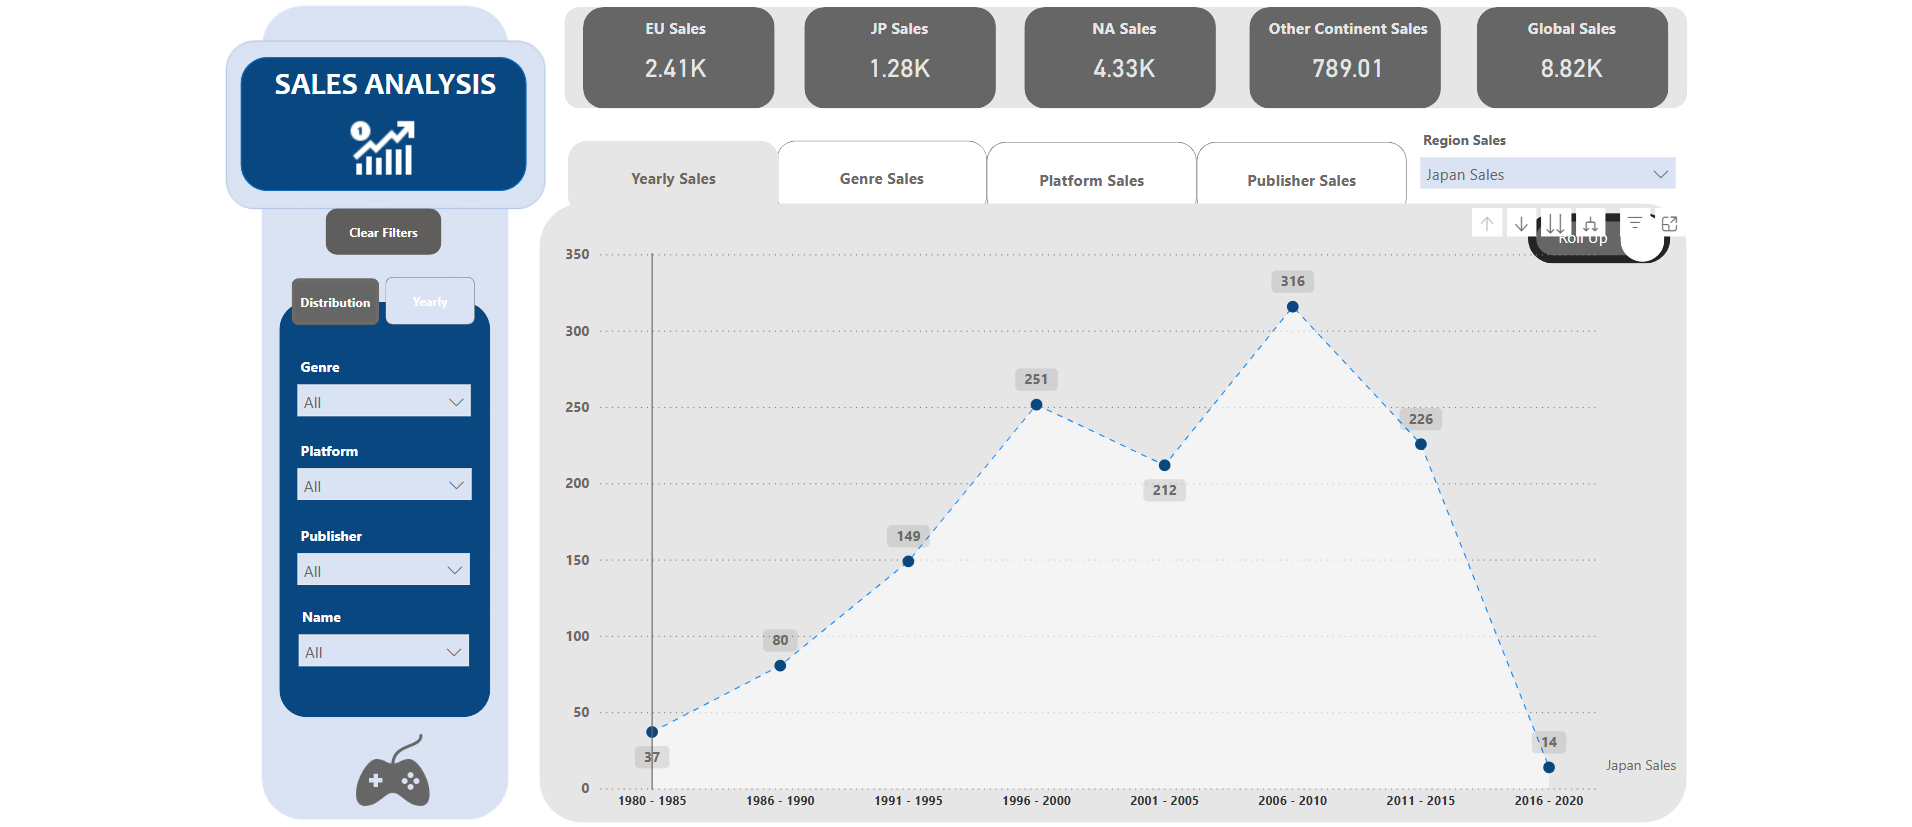

Layout of this report page (visuals, bound fields, positions):
{"tool":"powerbi","page":{"name":"Sales Analysis","canvas":[1280,720],"ordinal":0},"visuals":[{"type":"shape","box":[301.6,8.3,966,87.3],"z":0,"group":"g6"},{"type":"shape","box":[23.6,51.4,246,115.4],"z":0,"group":"g5"},{"type":"group","id":"g1","title":"White Button Navigator","box":[305.4,123.8,721.4,65.1],"z":0},{"type":"actionButton","title":"Button Yearly Sales","box":[305.8,124.5,181.6,64],"z":0,"group":"g2"},{"type":"actionButton","title":"Button Publisher Sales","box":[846.3,124.5,180.6,64.4],"z":0,"group":"g1"},{"type":"shape","box":[280,177,987.1,532.9],"z":0,"group":"g3"},{"type":"actionButton","title":"Activate Distribution Filter","box":[67.9,241.3,75.1,40.3],"z":0,"group":"g9"},{"type":"slicer","title":"Genre","fields":{"Values":["vgsales.Genre"]},"box":[61.7,305.7,169.6,73.6],"z":0,"group":"g8"},{"type":"shape","box":[317.5,8.5,165,87.3],"z":1000,"group":"g6"},{"type":"textbox","box":[41.7,52.8,212.7,43.1],"z":1000,"group":"g5"},{"type":"group","id":"g2","title":"Ash Button Navigator","box":[305.8,123,722.5,66.3],"z":1000},{"type":"actionButton","title":"Button Genre Sales","box":[485.1,123.8,180.7,63.9],"z":1000,"group":"g1"},{"type":"actionButton","title":"Deactivate Yearly Filter","box":[148.8,241.1,76.9,41],"z":1000,"group":"g9"},{"type":"shape","box":[56.6,261.9,181.6,357.2],"z":1000,"group":"g3"},{"type":"slicer","title":"Publisher","fields":{"Values":["vgsales.Publisher"]},"box":[62.4,450.7,168.3,71.4],"z":1000,"group":"g8"},{"type":"shape","box":[697,8.5,165,87.3],"z":2000,"group":"g6"},{"type":"image","box":[107,94.5,75.1,70.9],"z":2000,"group":"g5"},{"type":"actionButton","title":"Button Platform Sales","box":[665.7,124.5,180.6,64.4],"z":2000,"group":"g1"},{"type":"slicer","title":"Name","fields":{"Values":["vgsales.Name"]},"box":[63.2,520.5,166.7,71.4],"z":2000,"group":"g8"},{"type":"shape","box":[1086.7,8.5,165,87.3],"z":3000,"group":"g6"},{"type":"group","id":"g3","title":"Shapes","box":[56.6,177,1210.6,532.9],"z":3000},{"type":"shape","title":"Roll Up Shape","box":[1131.3,186.1,122.4,43.1],"z":3000,"group":"g4"},{"type":"areaChart","title":"GRAPH Yearly Sales","fields":{"Y":["Measures Table.JP Sales"],"Category":["vgsales.Year (groups) Hierarchy.Year (groups)","vgsales.Year (groups) Hierarchy.Year"]},"box":[297.4,207.3,969.1,501.4],"z":3000,"group":"g7"},{"type":"slicer","title":"Platform","fields":{"Values":["vgsales.Platform"]},"box":[61.6,377.7,169.8,74.6],"z":3000,"group":"g8"},{"type":"image","box":[118.3,624.4,72.8,78.5],"z":3000,"group":"g5"},{"type":"shape","box":[507.9,8.5,165,87.3],"z":4000,"group":"g6"},{"type":"group","id":"g4","title":"Yearly Sales Drill Down VS Roll Up","box":[1131,186.1,123,42.7],"z":4000},{"type":"actionButton","title":"Toggle Roll Up","box":[1211,187.5,37.7,40.6],"z":4000,"group":"g4"},{"type":"shape","box":[891.2,8.5,165,87.3],"z":5000,"group":"g6"},{"type":"textbox","title":"Roll Up Text box","box":[1139.9,193,77.6,31],"z":5000,"group":"g4"},{"type":"card","title":"EU Sales","fields":{"Values":["Sum(vgsales.EU_Sales)"]},"box":[312.4,17.2,170.1,69.5],"z":6000,"group":"g6"},{"type":"group","id":"g5","title":"Logo","box":[23.6,51.4,246,651.5],"z":6000},{"type":"group","id":"g6","title":"Sales Cards","box":[301.6,8.3,966,87.6],"z":7000},{"type":"card","title":"JP Sales","fields":{"Values":["Sum(vgsales.JP_Sales)"]},"box":[505.2,17.2,170.1,69.5],"z":8000,"group":"g6"},{"type":"group","id":"g7","title":"Sales","box":[288.7,202.4,977.9,518],"z":8000},{"type":"card","title":"NA Sales","fields":{"Values":["Sum(vgsales.NA_Sales)"]},"box":[698,17.2,170.1,69.5],"z":9000,"group":"g6"},{"type":"actionButton","title":"Clear Filters","box":[96.7,181.6,99.7,40.2],"z":9000},{"type":"card","title":"Other Continent Sales","fields":{"Values":["Sum(vgsales.Other_Sales)"]},"box":[890.8,17.2,170.1,69.5],"z":10000,"group":"g6"},{"type":"group","id":"g8","title":"Slicers","box":[56.6,305.7,180.1,286.2],"z":10000},{"type":"card","title":"Global Sales","fields":{"Values":["Sum(vgsales.Global_Sales)"]},"box":[1083.6,17.2,170.1,69.5],"z":11000,"group":"g6"},{"type":"group","id":"g9","title":"Activate - Deactivate Slicers","box":[67.9,239.6,157.8,42.5],"z":11000},{"type":"slicer","fields":{"Values":["Numeric KPI.Numeric KPI"]},"box":[1028,110,240,64],"z":12000}]}

Visuals, with their boxes on the page's 1280x720 design canvas (x1, y1, x2, y2). These are canvas units, not pixel positions in the 1912x827 screenshot, which may show the page scaled, cropped or inside an application window:
shape: crop(302, 8, 1268, 96)
shape: crop(24, 51, 270, 167)
"White Button Navigator" group: crop(305, 124, 1027, 189)
"Button Yearly Sales" actionButton: crop(306, 124, 487, 188)
"Button Publisher Sales" actionButton: crop(846, 124, 1027, 189)
shape: crop(280, 177, 1267, 710)
"Activate Distribution Filter" actionButton: crop(68, 241, 143, 282)
"Genre" slicer: crop(62, 306, 231, 379)
shape: crop(318, 8, 482, 96)
textbox: crop(42, 53, 254, 96)
"Ash Button Navigator" group: crop(306, 123, 1028, 189)
"Button Genre Sales" actionButton: crop(485, 124, 666, 188)
"Deactivate Yearly Filter" actionButton: crop(149, 241, 226, 282)
shape: crop(57, 262, 238, 619)
"Publisher" slicer: crop(62, 451, 231, 522)
shape: crop(697, 8, 862, 96)
image: crop(107, 94, 182, 165)
"Button Platform Sales" actionButton: crop(666, 124, 846, 189)
"Name" slicer: crop(63, 520, 230, 592)
shape: crop(1087, 8, 1252, 96)
"Shapes" group: crop(57, 177, 1267, 710)
"Roll Up Shape" shape: crop(1131, 186, 1254, 229)
"GRAPH Yearly Sales" areaChart: crop(297, 207, 1266, 709)
"Platform" slicer: crop(62, 378, 231, 452)
image: crop(118, 624, 191, 703)
shape: crop(508, 8, 673, 96)
"Yearly Sales Drill Down VS Roll Up" group: crop(1131, 186, 1254, 229)
"Toggle Roll Up" actionButton: crop(1211, 188, 1249, 228)
shape: crop(891, 8, 1056, 96)
"Roll Up Text box" textbox: crop(1140, 193, 1218, 224)
"EU Sales" card: crop(312, 17, 482, 87)
"Logo" group: crop(24, 51, 270, 703)
"Sales Cards" group: crop(302, 8, 1268, 96)
"JP Sales" card: crop(505, 17, 675, 87)
"Sales" group: crop(289, 202, 1267, 720)
"NA Sales" card: crop(698, 17, 868, 87)
"Clear Filters" actionButton: crop(97, 182, 196, 222)
"Other Continent Sales" card: crop(891, 17, 1061, 87)
"Slicers" group: crop(57, 306, 237, 592)
"Global Sales" card: crop(1084, 17, 1254, 87)
"Activate - Deactivate Slicers" group: crop(68, 240, 226, 282)
slicer - Numeric KPI.Numeric KPI: crop(1028, 110, 1268, 174)
